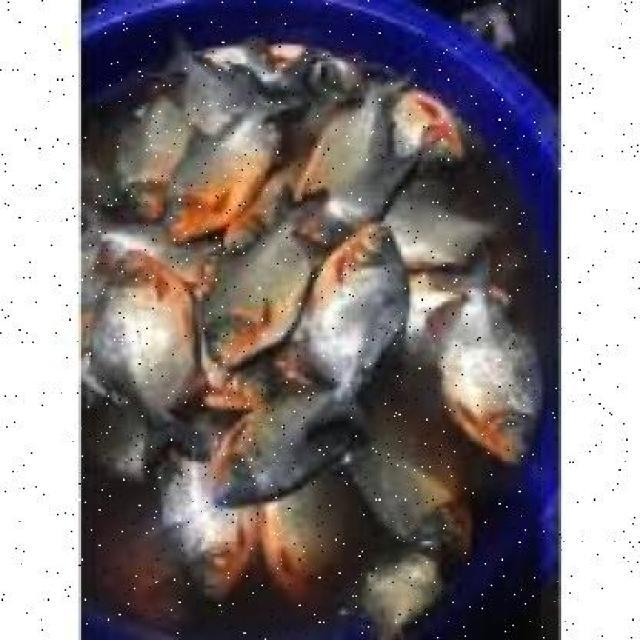ikan-pacu: (159, 89, 290, 237), (92, 242, 194, 426), (450, 282, 544, 460), (310, 213, 404, 390)
